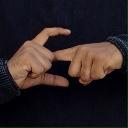hand: (6, 26, 71, 89), (52, 40, 123, 85)
